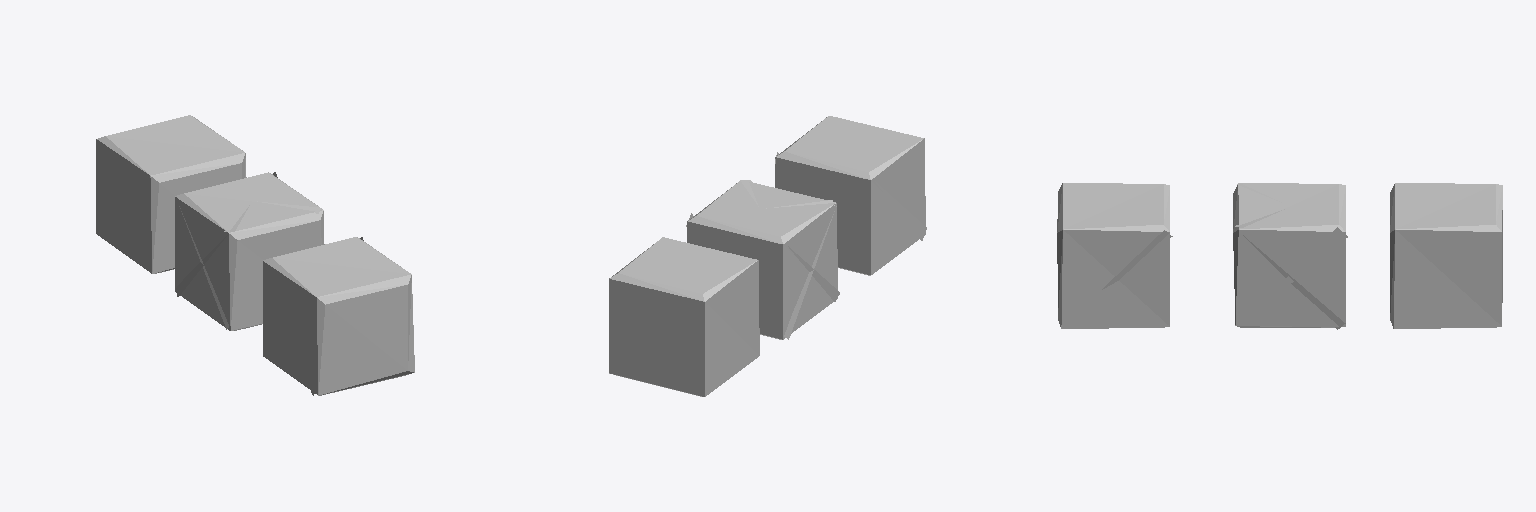
The model's file is caja_LoD_3.obj.
3 views of the same model, side by side, from view 1: azimuth 30°, elevation 25°; view 2: azimuth 150°, elevation 25°; view 3: azimuth 270°, elevation 25° (orthographic).
Parts seen in each view (by area): view 1: Boxes; view 2: Boxes; view 3: Boxes.
Boxes of the visible parts, <box> form: Boxes: <box>96,115,414,395</box>; Boxes: <box>609,116,926,396</box>; Boxes: <box>1057,183,1502,329</box>.
Size of the model in its own units: 5.76 by 5.79 by 22.31.